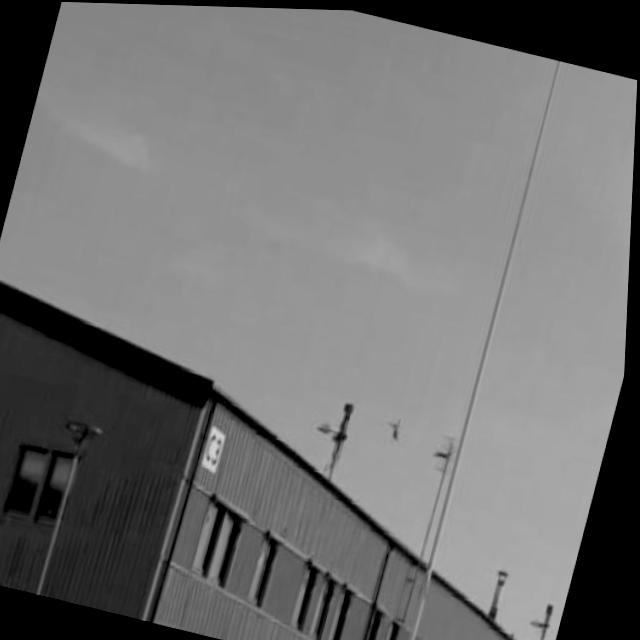helikopter: (387, 409, 415, 449)
